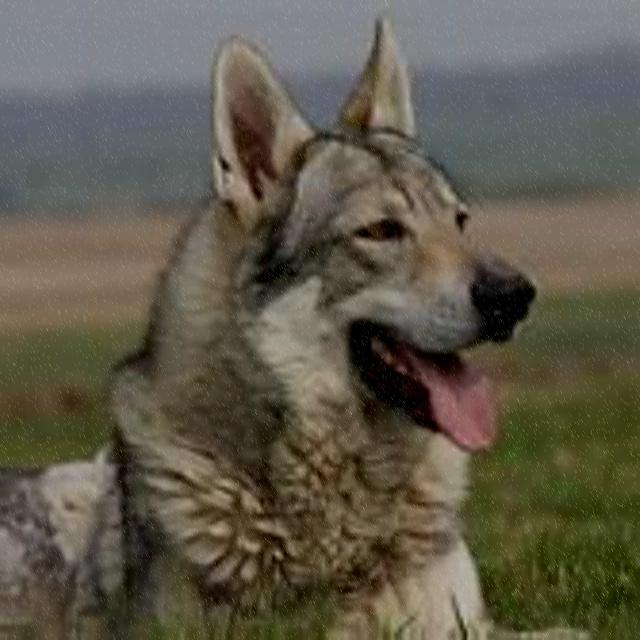dog: (6, 3, 536, 635), (6, 635, 536, 640), (6, 0, 536, 3)
